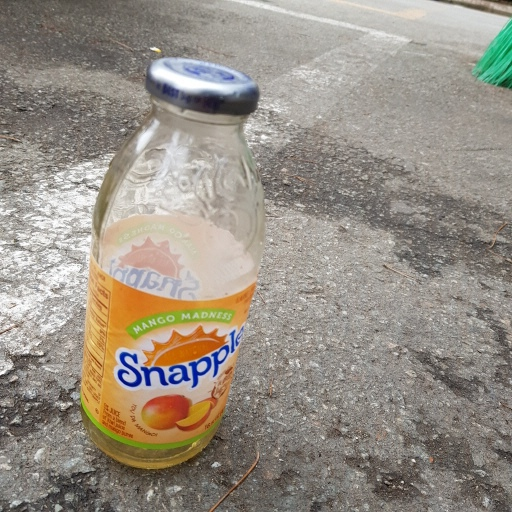Glass_4: (83, 53, 271, 480)
